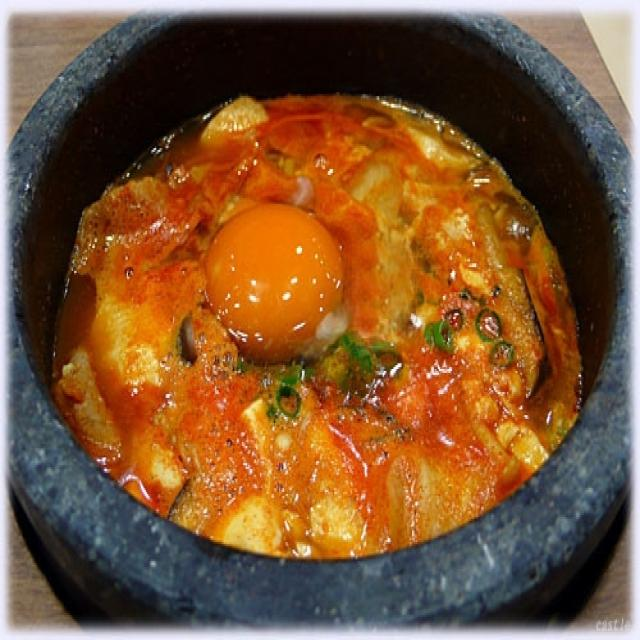汤锅炖物: (23, 25, 605, 602)
